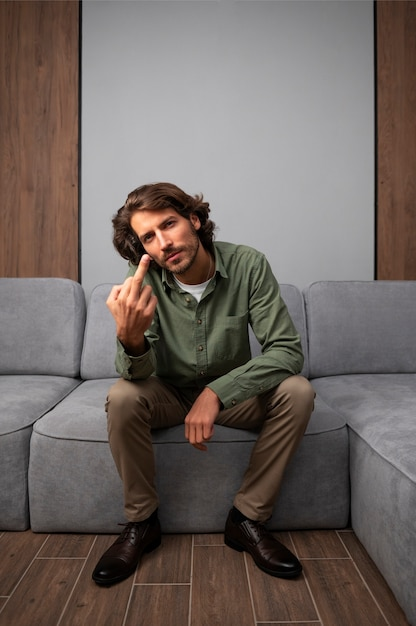insulting_gesture: (105, 253, 162, 340)
